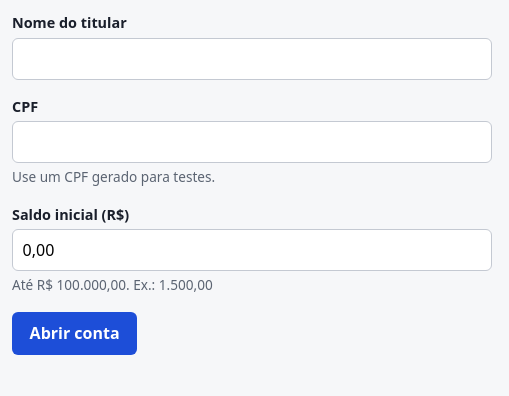
it: AccountForm › [WEB-AC-02] CPF com dígito errado: "CPF inválido" ao sair do campo
Type "529.982.247-24" into the field labelled "CPF". click: (252, 142)
box: [12,121,492,163]
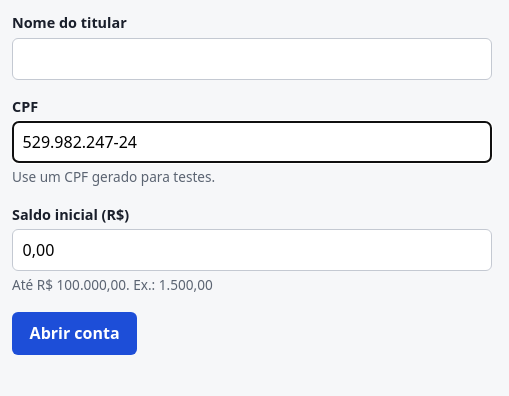
Press Tab
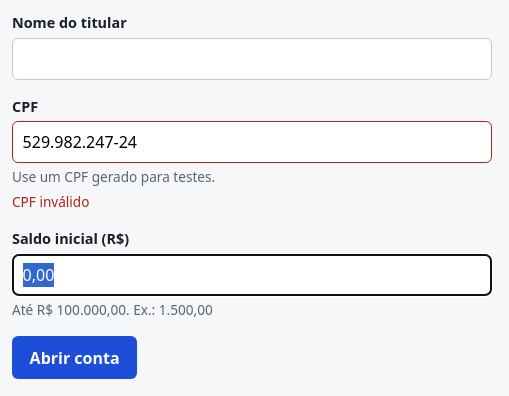
Now the text "CPF inválido" is shown, box [12,192,90,211]
